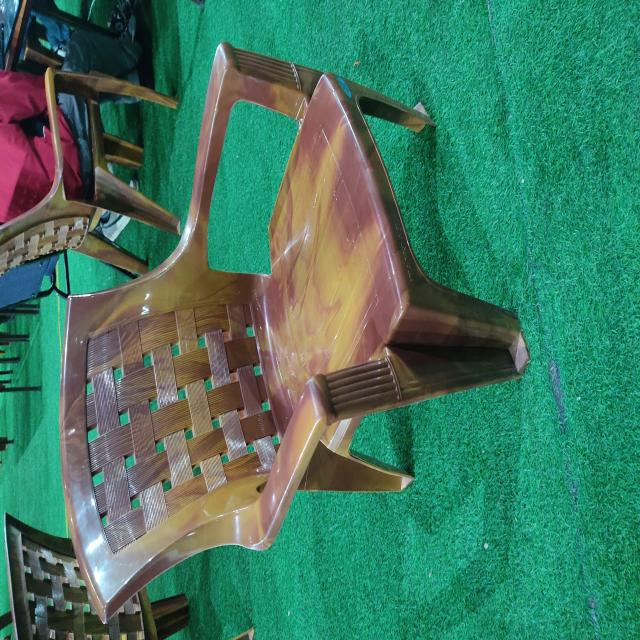Camer Stand: (57, 40, 531, 622)
